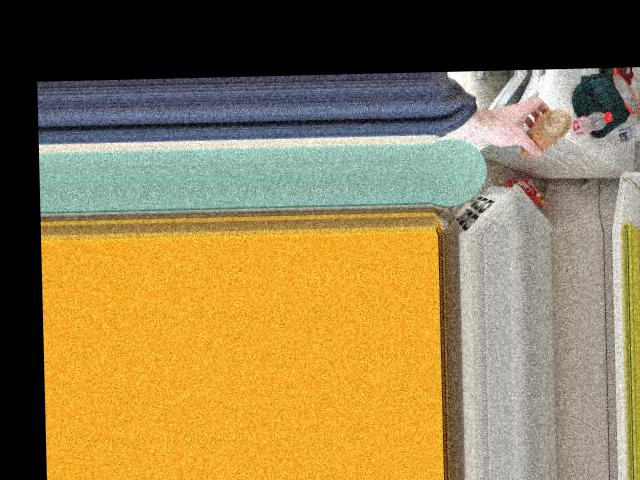sweet_potato: (521, 113, 572, 159)
